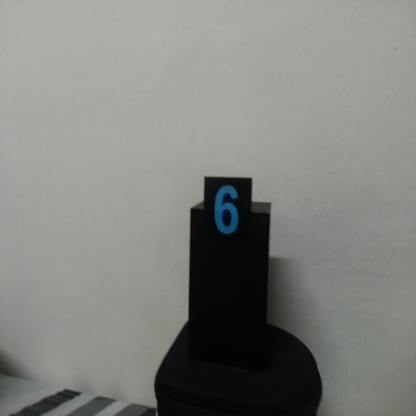id_6: (204, 176, 252, 256)
